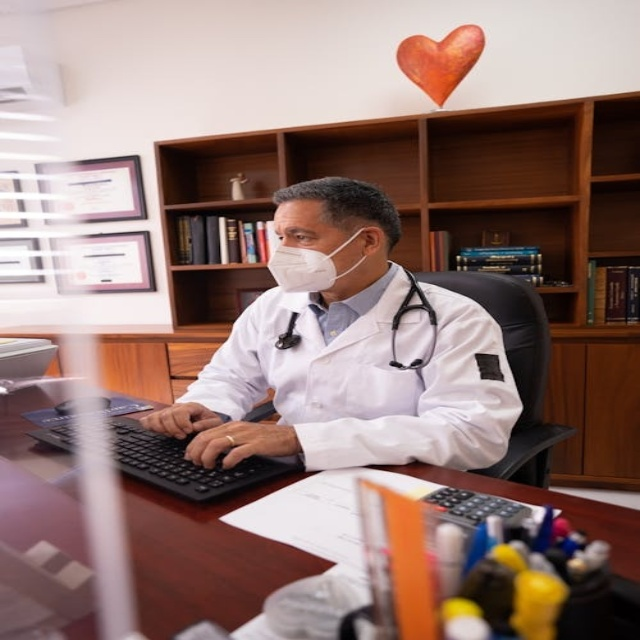Mascara: (267, 228, 367, 291)
Sin_gafas: (271, 223, 337, 247)
Sin_guantes: (180, 420, 292, 470), (134, 398, 219, 439)
